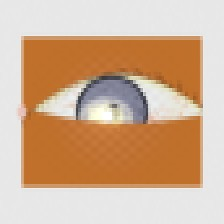corneal_ulcer: (77, 96, 134, 142)
